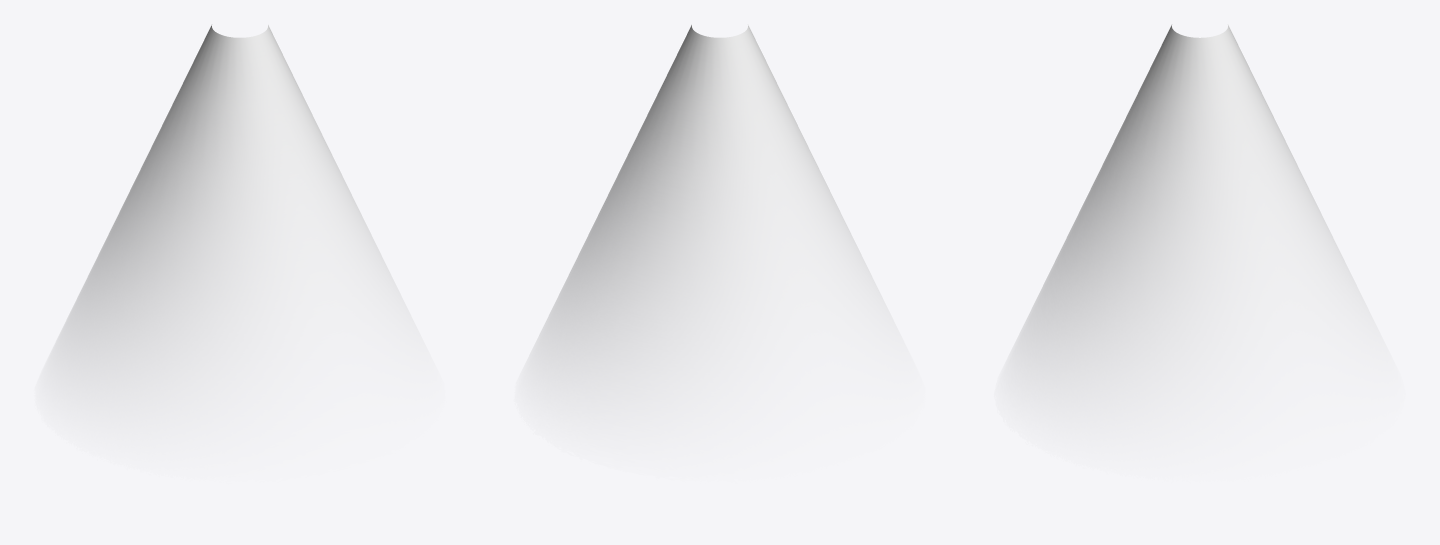
The model's file is ConeNew.glb.
3 renders of one model, left to right at view 1: azimuth 30°, elevation 25°; view 2: azimuth 150°, elevation 25°; view 3: azimuth 270°, elevation 25°, orthographic.
Visible parts, largest first — view 1: Cone; view 2: Cone; view 3: Cone.
Boxes of the visible parts, <box> form: Cone: <box>56,25,422,425</box>; Cone: <box>536,25,902,425</box>; Cone: <box>1017,25,1382,426</box>.
Bounding box in the file's own units: 4 × 4 × 4.
Materials: 1 (1 with a texture image).
